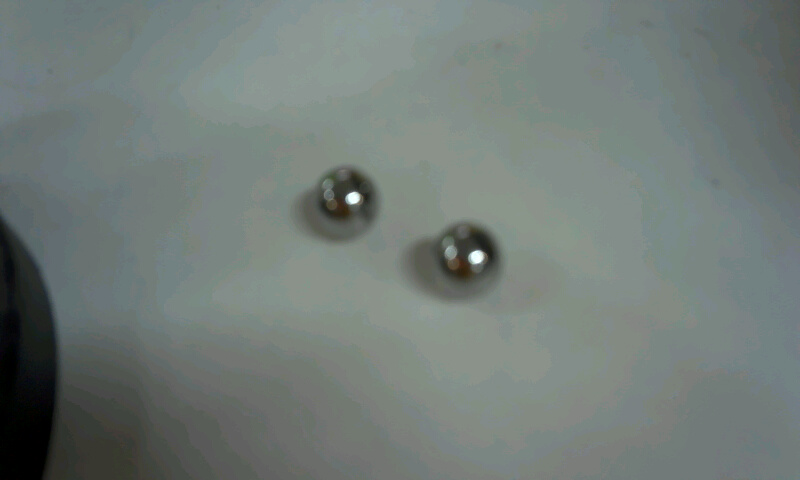steelball: (302, 158, 388, 247), (423, 215, 510, 302)
